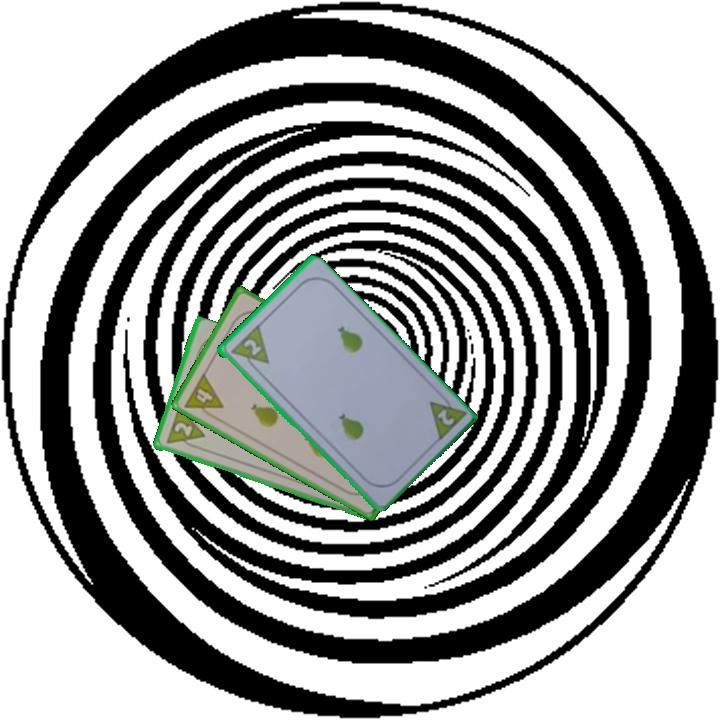2p: (226, 322, 272, 376), (425, 388, 468, 445), (162, 405, 207, 453)
4p: (181, 369, 226, 423)
